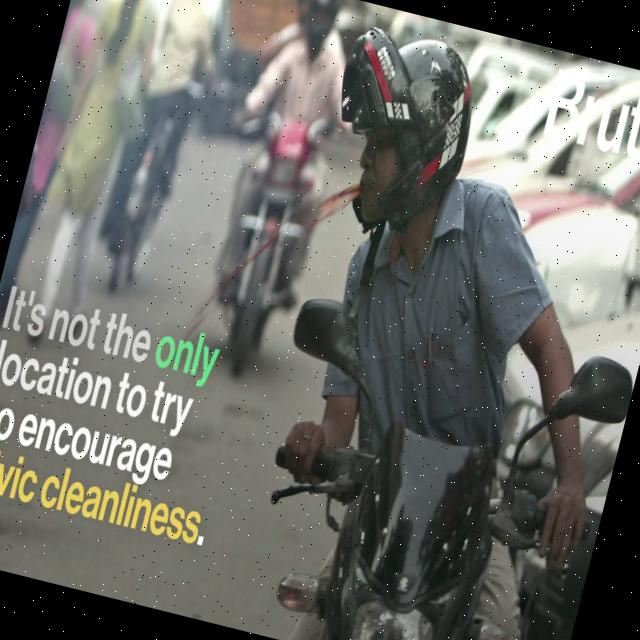spit: (192, 155, 381, 355)
